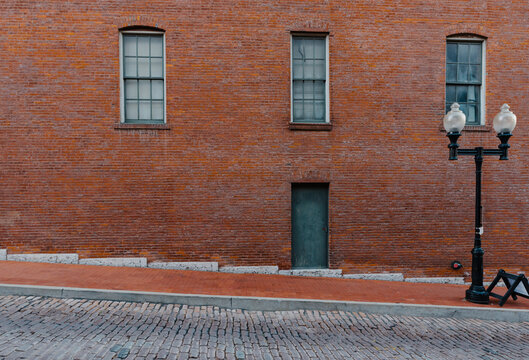Wall: (8, 135, 285, 252), (335, 36, 443, 267)
